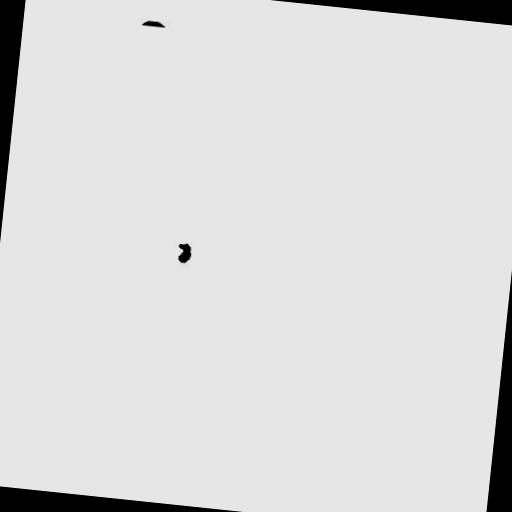copper: (169, 234, 200, 272)
